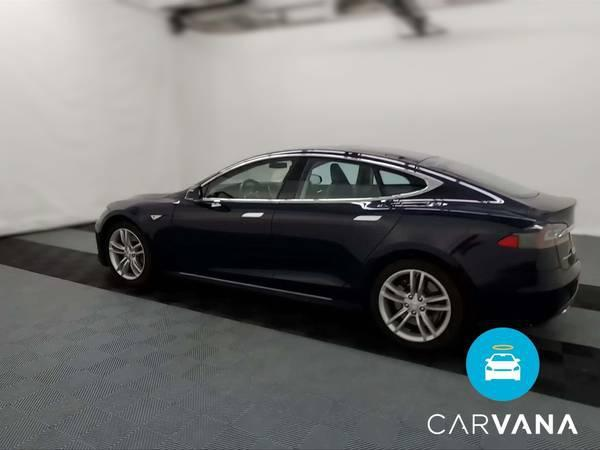Front_Fender: (94, 197, 178, 279)
Front_Left_Door: (168, 199, 276, 289)
Front_Left_Window: (180, 155, 301, 200)
Left_Taillight: (497, 219, 571, 249)
Rear_Bumper: (469, 244, 591, 328)
Rear_Fender: (378, 214, 545, 267)
Rear_Left_Door: (266, 205, 406, 307)
Rear_Left_Window: (278, 154, 440, 208)
Rear_Windshield: (418, 155, 539, 197)
Roof: (254, 144, 533, 222)
Tailgate: (515, 188, 576, 263)
Wheel: (369, 260, 464, 352), (106, 227, 152, 286)
